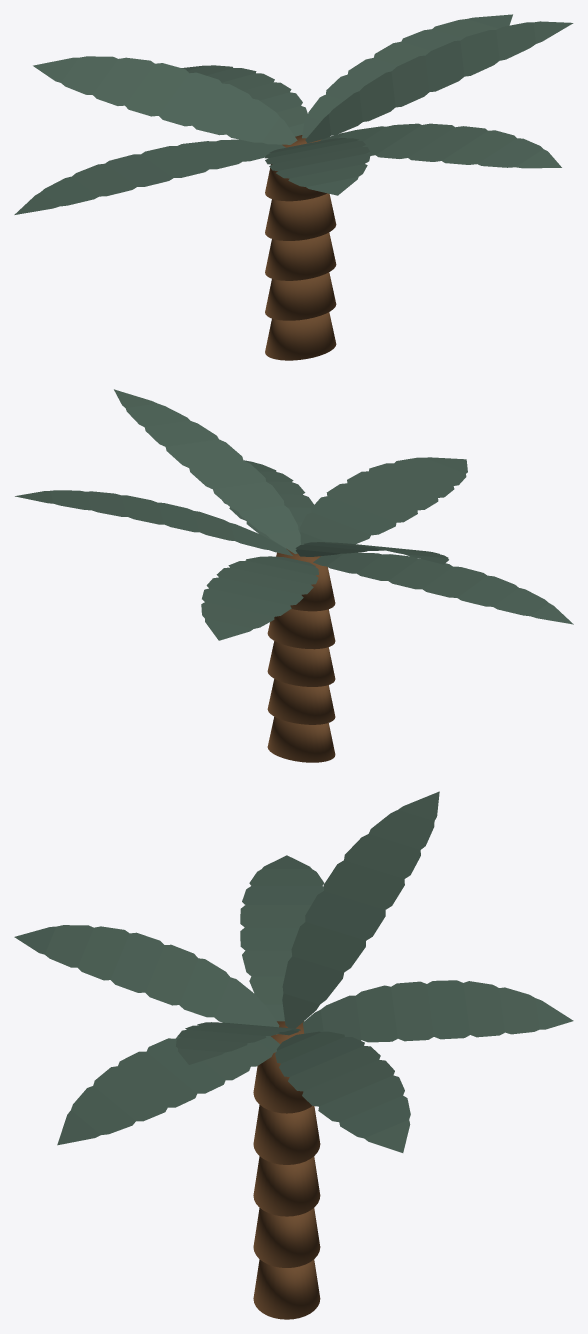
File: PalmTree.glb
3 views of the same model, one above another, from view 1: azimuth 30°, elevation 25°; view 2: azimuth 150°, elevation 25°; view 3: azimuth 270°, elevation 25° (orthographic). The views are drawn at different scales.
Visible parts, largest first — view 1: Leaf5, Leaf3, Leaf1, Leaf7, Leaf6, Leaf2, Leaf4, Trunk1, Trunk2, Trunk3, Trunk4, Trunk5; view 2: Leaf2, Leaf3, Leaf4, Leaf1, Leaf6, Trunk1, Trunk2, Trunk3, Trunk4, Leaf7, Leaf5, Trunk5; view 3: Leaf5, Leaf4, Leaf2, Leaf7, Leaf6, Leaf1, Trunk1, Trunk3, Trunk2, Trunk4, Leaf3, Trunk5.
Boxes of the visible parts, x1=… form: Leaf5: x1=33, y1=56, x2=297, y2=144; Leaf3: x1=305, y1=21, x2=573, y2=143; Leaf1: x1=14, y1=139, x2=285, y2=214; Leaf7: x1=320, y1=123, x2=561, y2=168; Leaf6: x1=302, y1=14, x2=512, y2=138; Leaf2: x1=265, y1=138, x2=370, y2=195; Leaf4: x1=181, y1=65, x2=307, y2=136; Trunk1: x1=265, y1=312, x2=336, y2=360; Trunk2: x1=265, y1=272, x2=336, y2=320; Trunk3: x1=265, y1=232, x2=336, y2=280; Trunk4: x1=265, y1=193, x2=336, y2=240; Trunk5: x1=265, y1=135, x2=326, y2=201; Leaf2: x1=300, y1=457, x2=467, y2=544; Leaf3: x1=114, y1=389, x2=300, y2=553; Leaf4: x1=201, y1=556, x2=318, y2=640; Leaf1: x1=313, y1=552, x2=573, y2=624; Leaf6: x1=15, y1=490, x2=292, y2=555; Trunk1: x1=267, y1=717, x2=335, y2=762; Trunk2: x1=267, y1=679, x2=335, y2=724; Trunk3: x1=267, y1=641, x2=335, y2=686; Trunk4: x1=267, y1=609, x2=335, y2=649; Leaf7: x1=222, y1=460, x2=313, y2=548; Leaf5: x1=295, y1=542, x2=448, y2=564; Trunk5: x1=276, y1=548, x2=335, y2=611; Leaf5: x1=282, y1=791, x2=439, y2=1028; Leaf4: x1=303, y1=980, x2=573, y2=1042; Leaf2: x1=14, y1=925, x2=279, y2=1034; Leaf7: x1=57, y1=1035, x2=280, y2=1145; Leaf6: x1=275, y1=1031, x2=410, y2=1152; Leaf1: x1=240, y1=855, x2=324, y2=1021; Trunk1: x1=253, y1=1259, x2=320, y2=1319; Trunk3: x1=253, y1=1156, x2=320, y2=1216; Trunk2: x1=253, y1=1208, x2=320, y2=1267; Trunk4: x1=253, y1=1105, x2=320, y2=1164; Leaf3: x1=176, y1=1022, x2=300, y2=1064; Trunk5: x1=253, y1=1021, x2=311, y2=1113.
Bounding box in the file's own units: 16.35 × 8.48 × 11.27.
